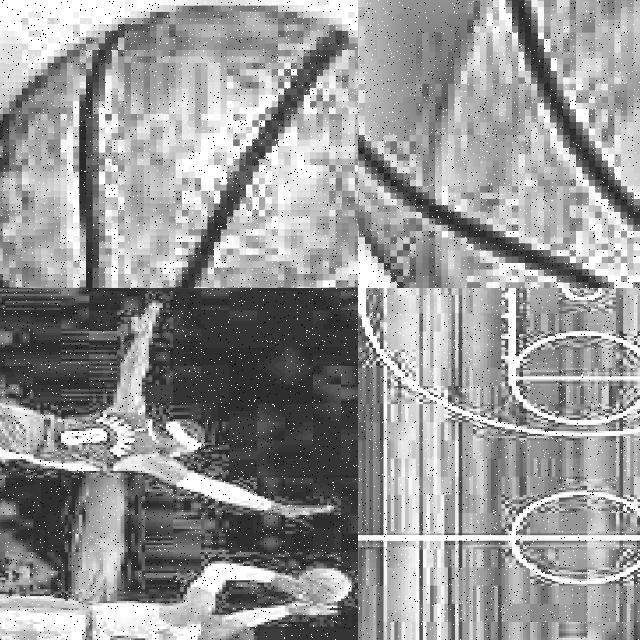Basketball: (0, 5, 358, 288)
